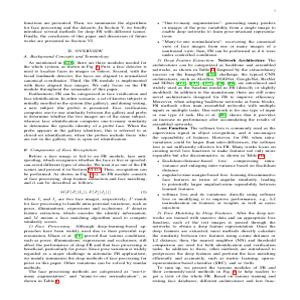text: (15, 19, 149, 291), (151, 19, 279, 290)
